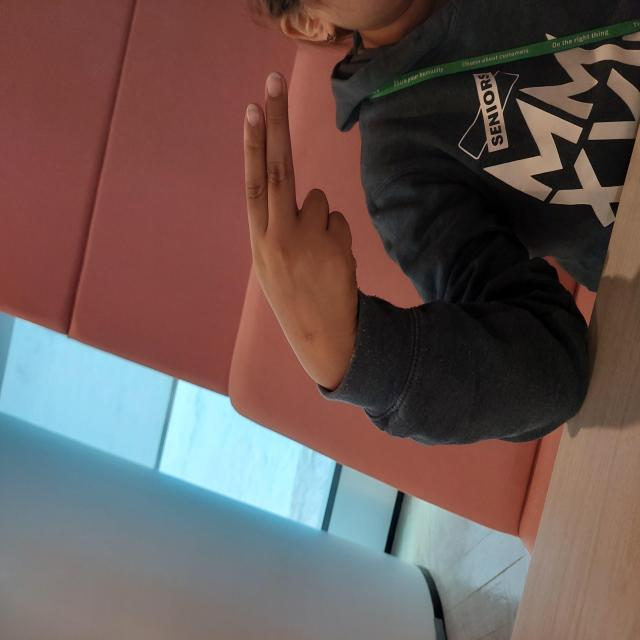H: (242, 237, 576, 367)
